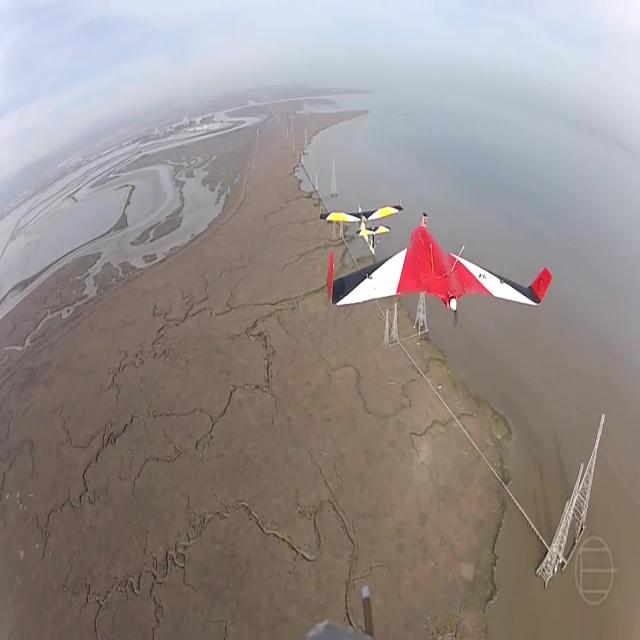iha: (326, 240, 554, 280), (351, 203, 372, 256)
